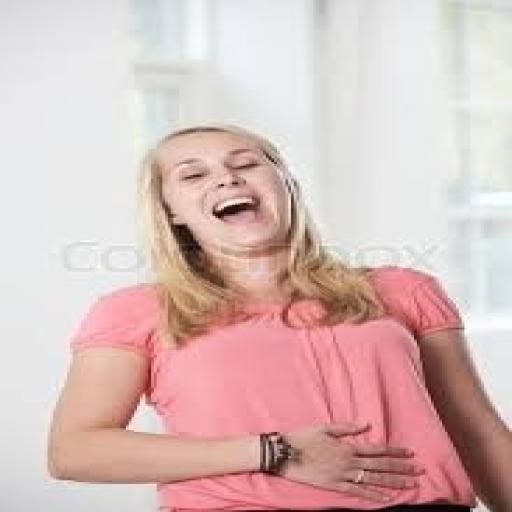laughing: (42, 117, 509, 510)
